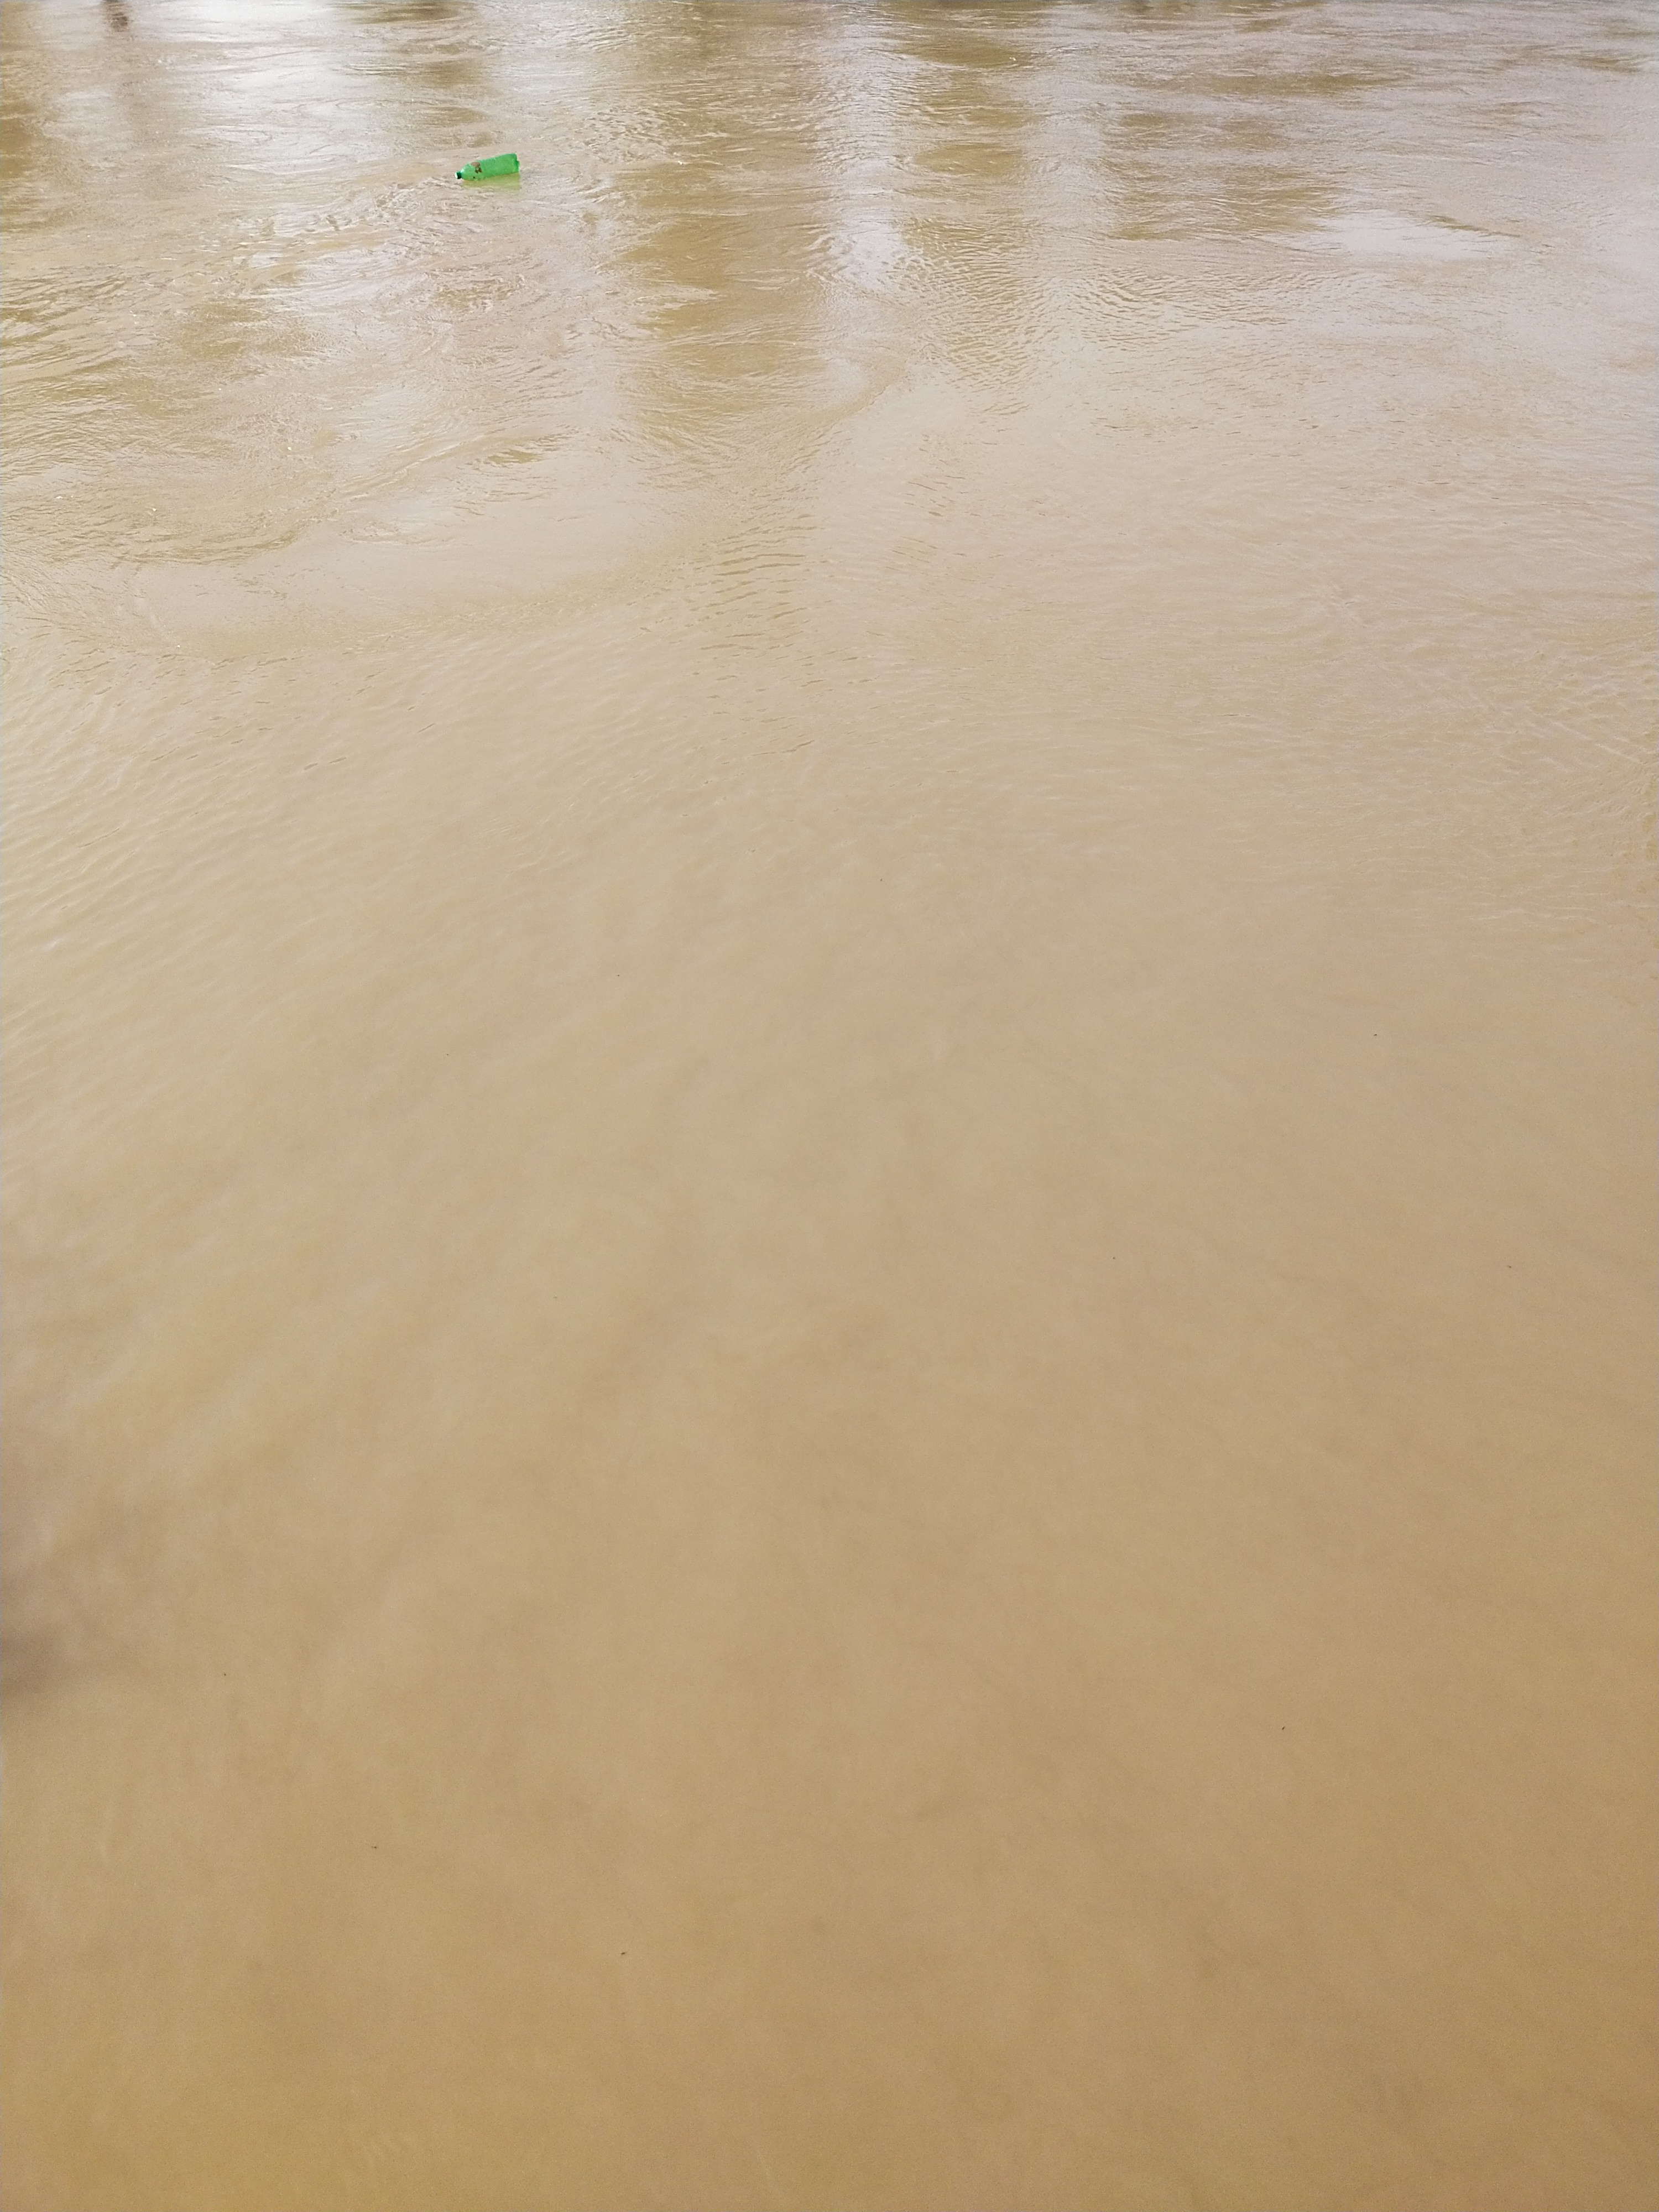Plastic Bottle: (455, 153, 519, 181)
